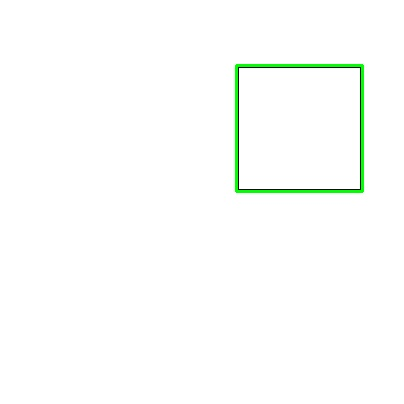line_segment: (235, 64, 364, 193)
